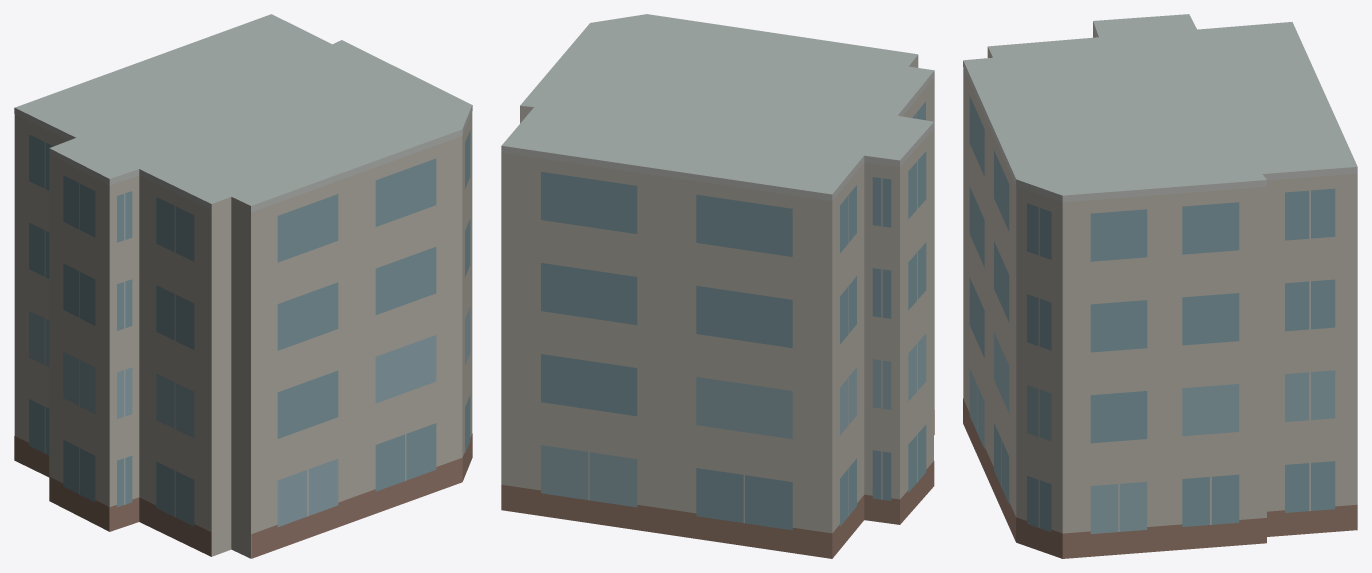
File: survey-upis-32615453.glb
3 renders of one model, left to right at view 1: azimuth 30°, elevation 25°; view 2: azimuth 150°, elevation 25°; view 3: azimuth 270°, elevation 25°, orthographic. The views are drawn at different scales.
Visible parts, largest first — view 1: survey-upis-32615453.tmp; view 2: survey-upis-32615453.tmp; view 3: survey-upis-32615453.tmp.
Part boxes in pixels (x1,y1,x2,y2): survey-upis-32615453.tmp: (14, 14, 472, 558); survey-upis-32615453.tmp: (501, 14, 934, 558); survey-upis-32615453.tmp: (963, 14, 1357, 558).
Bounding box in the file's own units: 14.23 × 13.26 × 13.06.
